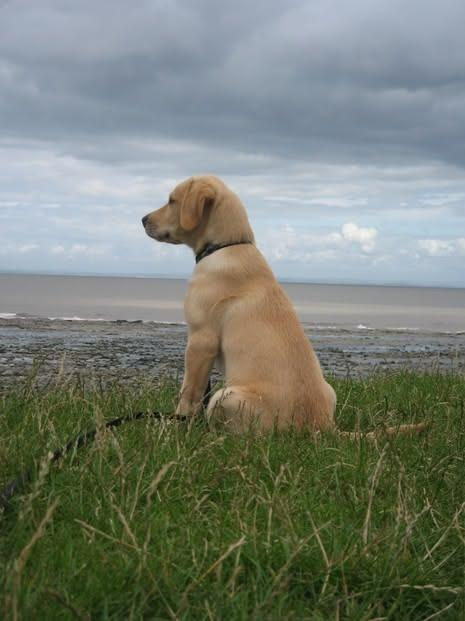puppy-dog: (139, 175, 435, 443)
